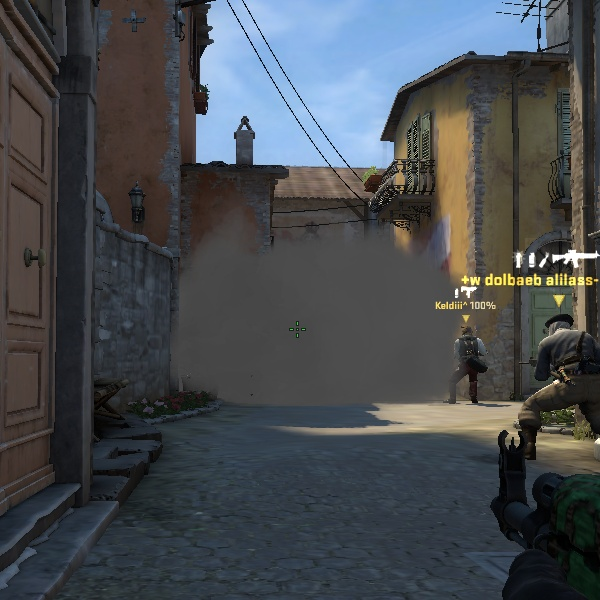t_body: (446, 320, 492, 403)
t_head: (543, 308, 578, 341)
